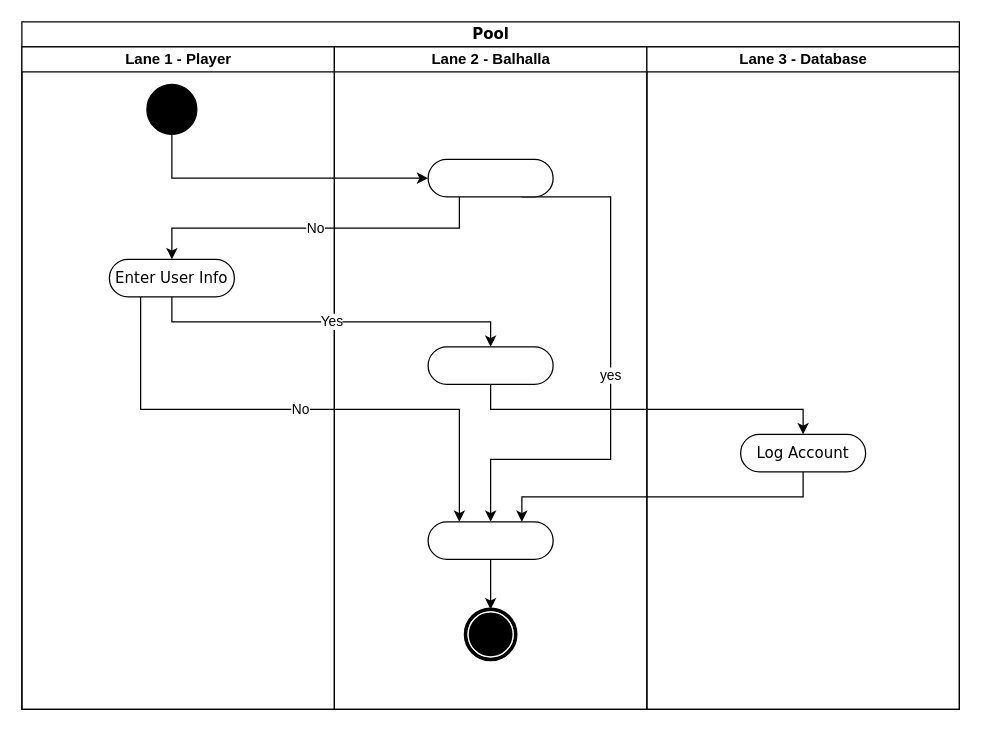
Some shapes in this 981 by 731 pixel diagram are drawn without their labels. Here are the shapes that lost their labels. From the top down, the centre of each, then its label:
(490,177): Authenticated?
(490,365): Register
(490,540): Main Menu
